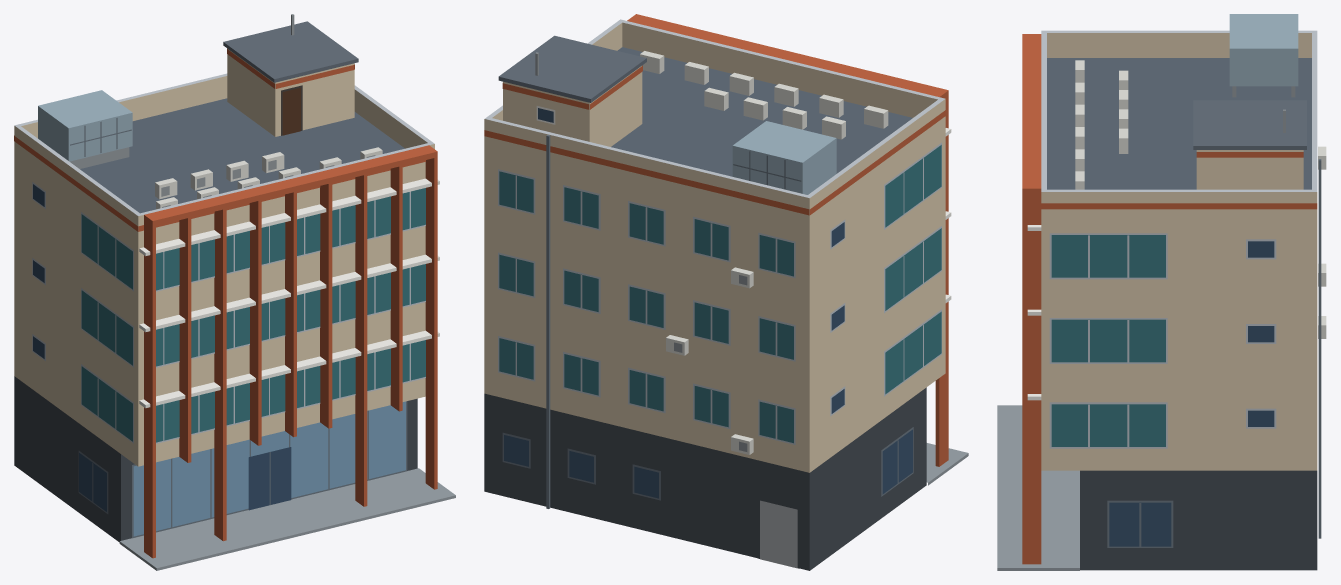
The model's file is kantor_01.glb.
3 views of the same model, side by side, from view 1: azimuth 30°, elevation 25°; view 2: azimuth 150°, elevation 25°; view 3: azimuth 270°, elevation 25° (orthographic). The views are drawn at different scales.
Parts seen in each view (by area): view 1: kantor_01; view 2: kantor_01; view 3: kantor_01.
Part boxes in pixels (x1,y1,x2,y2): kantor_01: [14, 14, 455, 570]; kantor_01: [484, 14, 968, 570]; kantor_01: [997, 14, 1326, 570].
Size of the model in its own units: 14 by 17.76 by 11.98.
